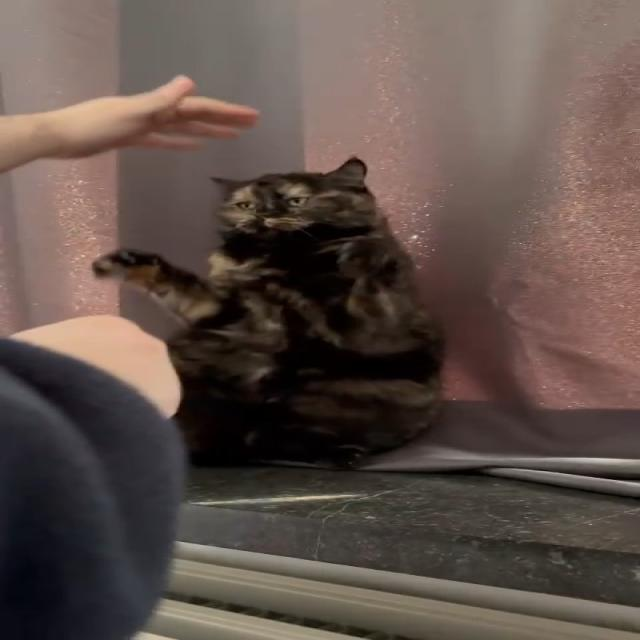authorized: (90, 156, 447, 468)
